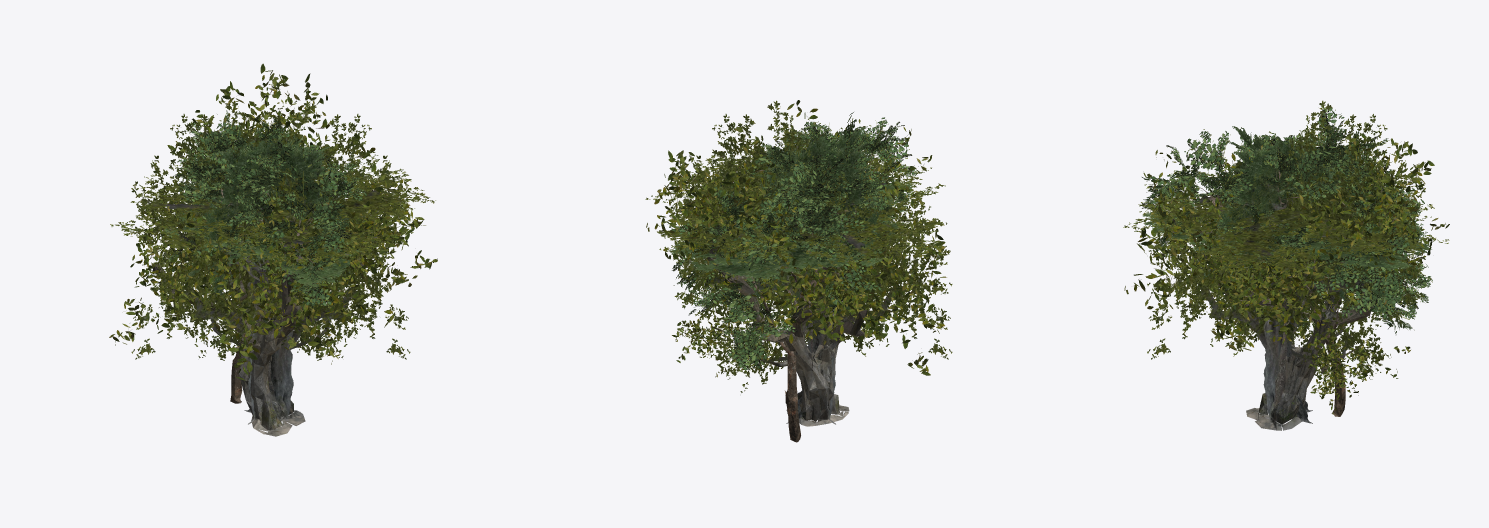
The model's file is floresta-lods-mobile.glb.
3 renders of one model, left to right at view 1: azimuth 30°, elevation 25°; view 2: azimuth 150°, elevation 25°; view 3: azimuth 270°, elevation 25°, orthographic.
Parts seen in each view (by area): view 1: v0_far, v0_mid, v1_mid, v1_far; view 2: v0_mid, v0_far, v1_mid, v1_far; view 3: v0_far, v0_mid, v1_mid, v1_far.
Part boxes in pixels (<box>): v0_far: <box>110,100,435,424</box>; v0_mid: <box>109,63,437,436</box>; v1_mid: <box>160,110,366,403</box>; v1_far: <box>163,134,361,421</box>; v0_mid: <box>646,100,949,426</box>; v0_far: <box>645,100,952,424</box>; v1_mid: <box>661,112,916,442</box>; v1_far: <box>669,126,912,420</box>; v0_far: <box>1123,100,1449,423</box>; v0_mid: <box>1124,128,1449,430</box>; v1_mid: <box>1141,107,1432,416</box>; v1_far: <box>1142,126,1431,420</box>.
Size of the model in its own units: 5.53 by 5.53 by 5.53.
10 materials, 10 textured.
